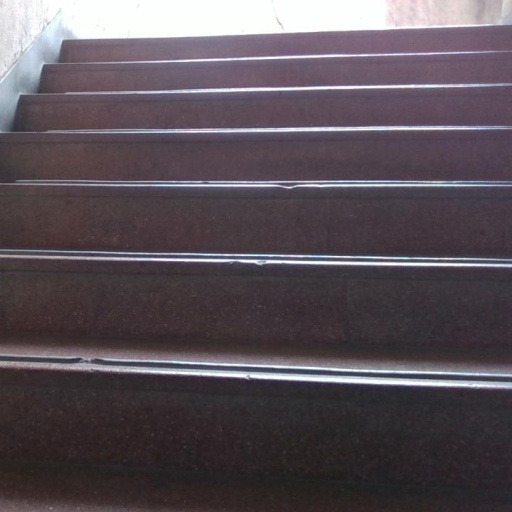Stairs: (0, 26, 512, 512)
